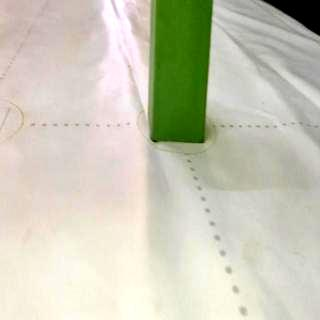greenbox: (151, 0, 215, 143)
